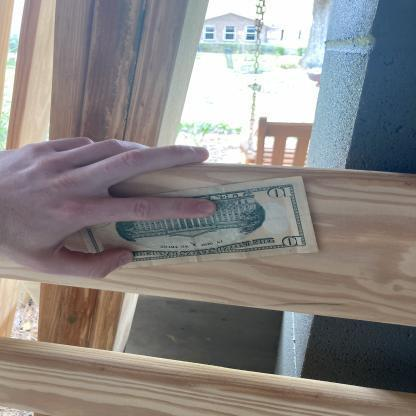ten-back: (72, 176, 320, 272)
